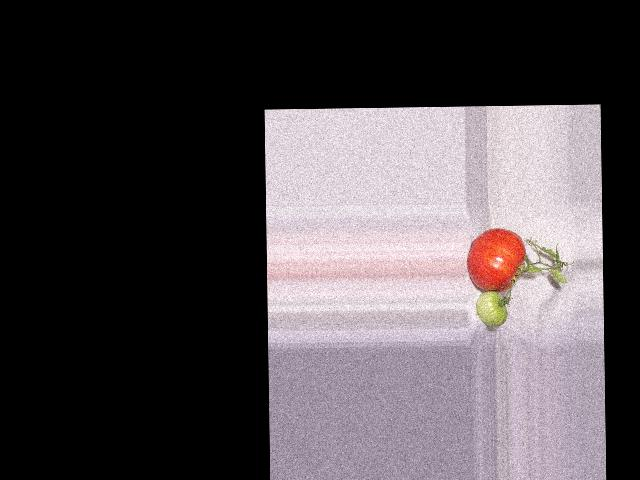tomato: (466, 227, 526, 292)
